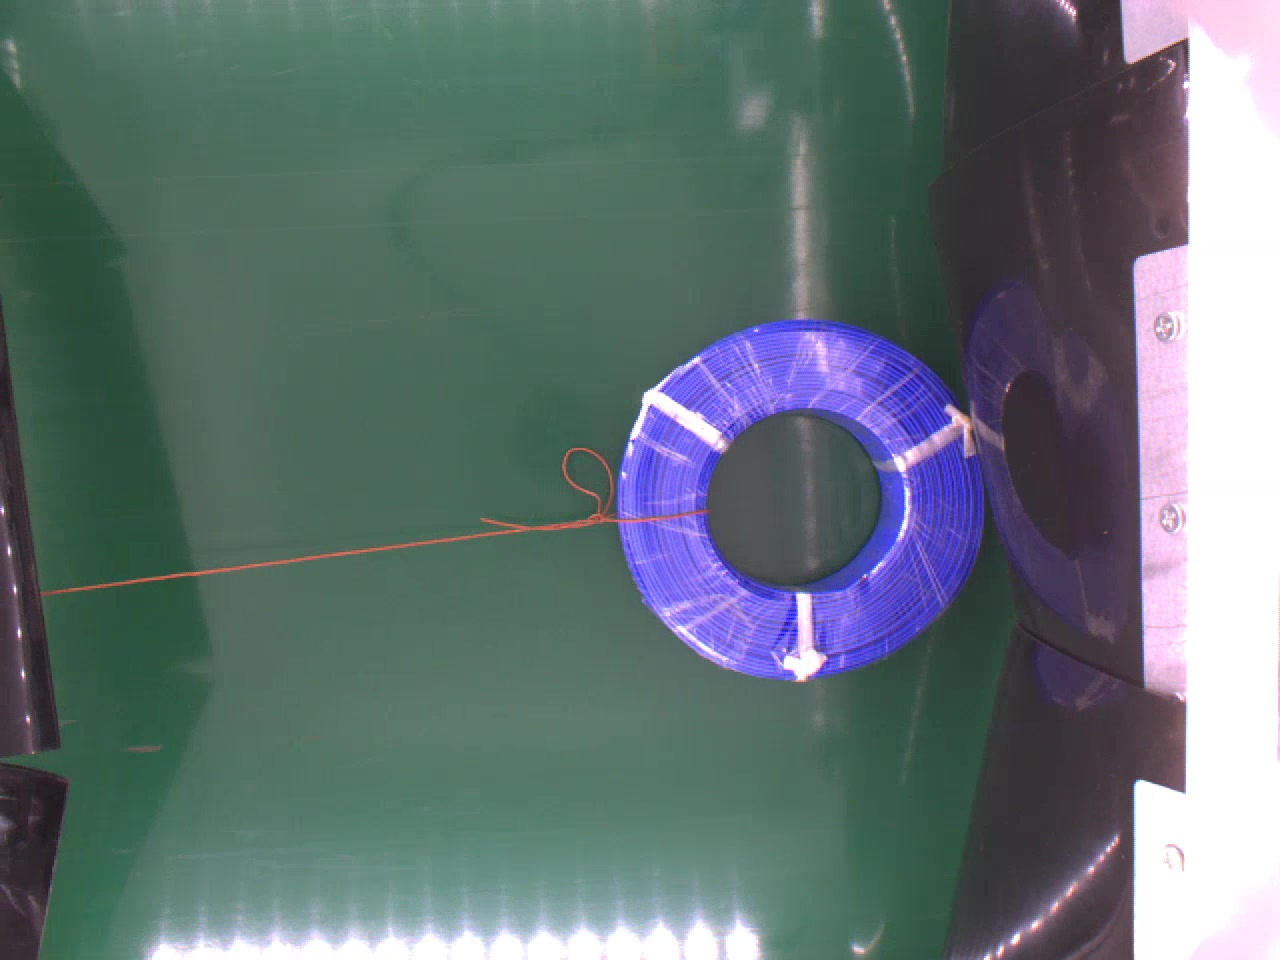blue: (618, 318, 990, 686)
